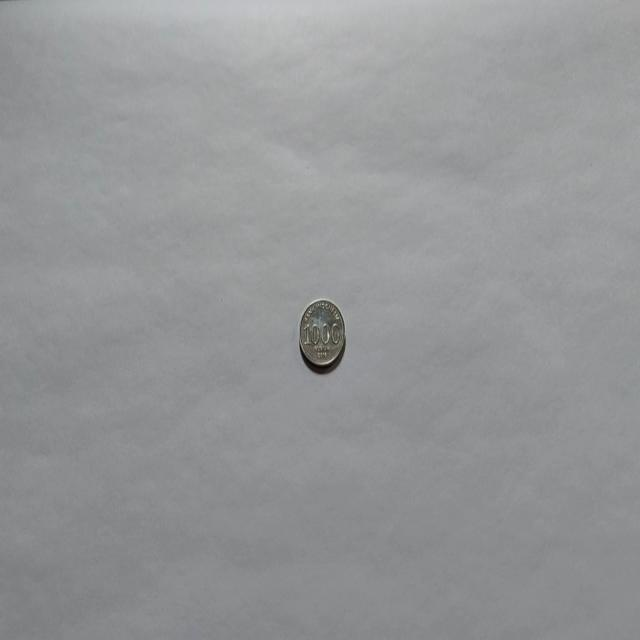seribu rupiah koin: (298, 296, 347, 372)
